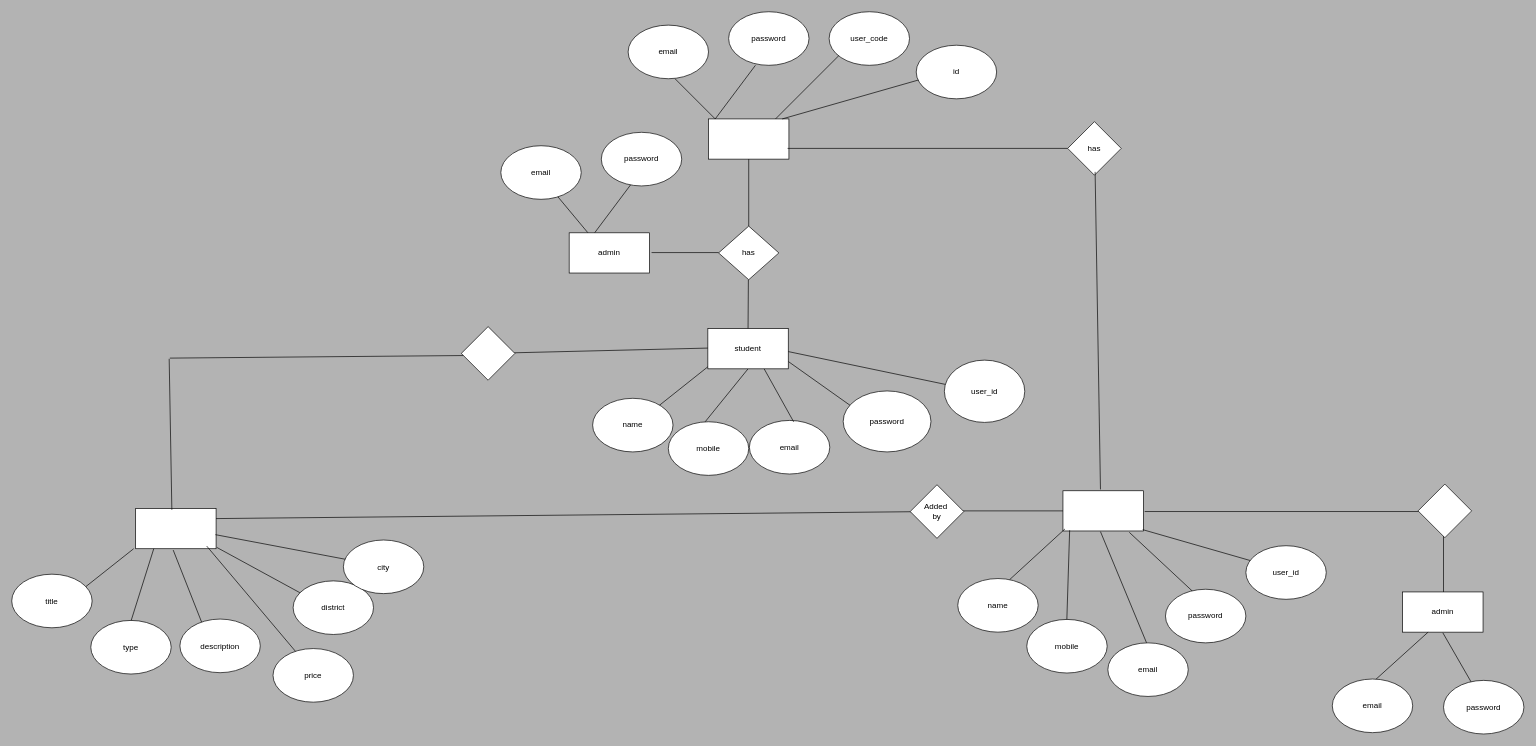
Some shapes in this 1536 by 746 pixel diagram are drawn without their labels. The shapes that lost their labels are listed below. From the top down, each one's centre as x and y in pixels, then its label:
the point at 748,138: login
the point at 488,353: view
the point at 175,528: properties
the point at 1102,510: owners
the point at 1444,510: Managed by
